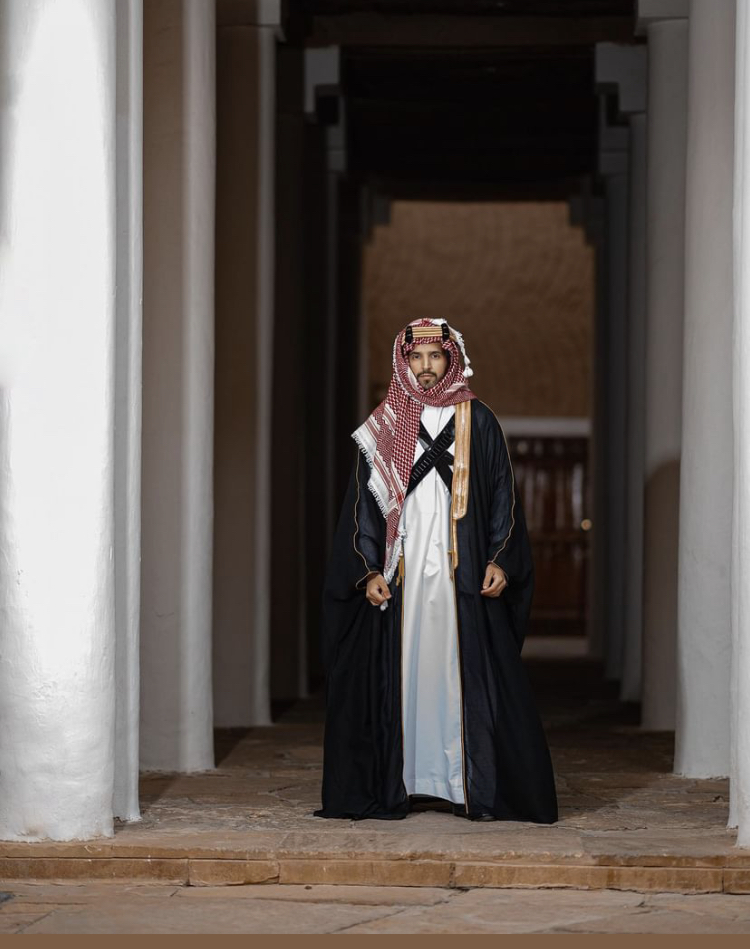Saudi_Founding_Day: (307, 310, 569, 829)
